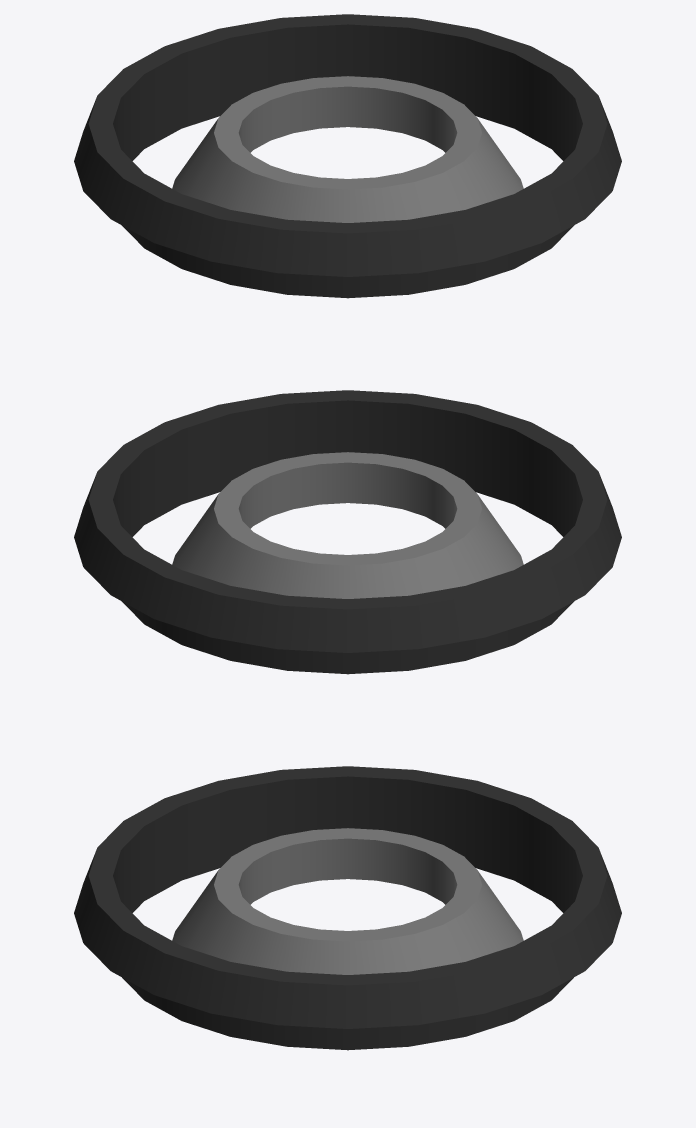
File: Leg_EffectsGenerator_1X1_invisible.FBX
3 views of the same model, one above another, from view 1: azimuth 30°, elevation 25°; view 2: azimuth 150°, elevation 25°; view 3: azimuth 270°, elevation 25° (orthographic).
Visible parts, largest first — view 1: Box002; view 2: Box002; view 3: Box002.
Part boxes in pixels (left/top/right/bottom): Box002: left=74, top=14, right=621, bottom=298; Box002: left=74, top=390, right=621, bottom=674; Box002: left=74, top=766, right=621, bottom=1050.
Size of the model in its own units: 0.001 by 0.00016 by 0.001.
